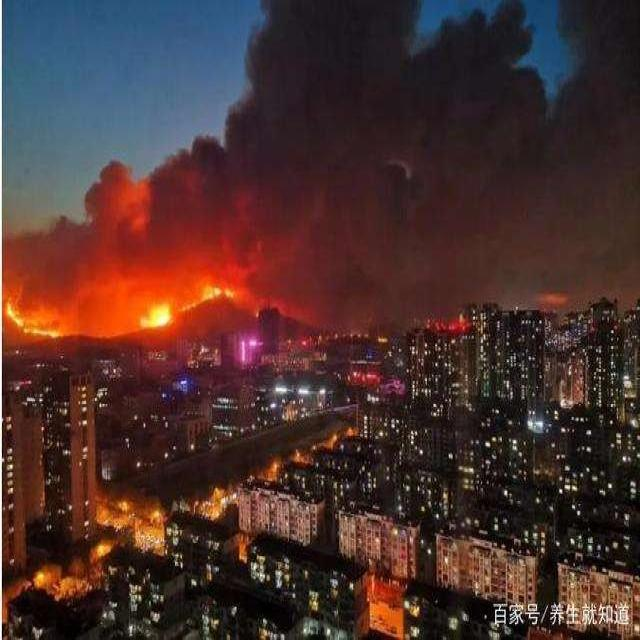fire: (132, 275, 240, 324), (4, 294, 77, 340)
smoke: (1, 3, 640, 307)
